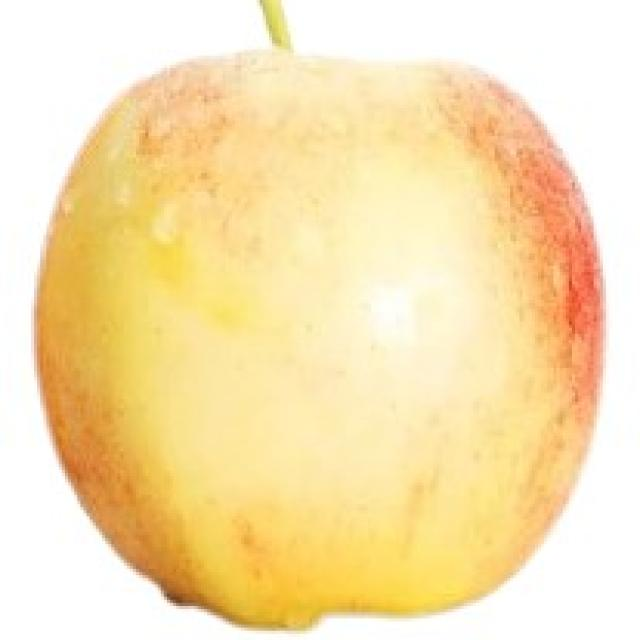75-_ripeness: (40, 46, 607, 631)
